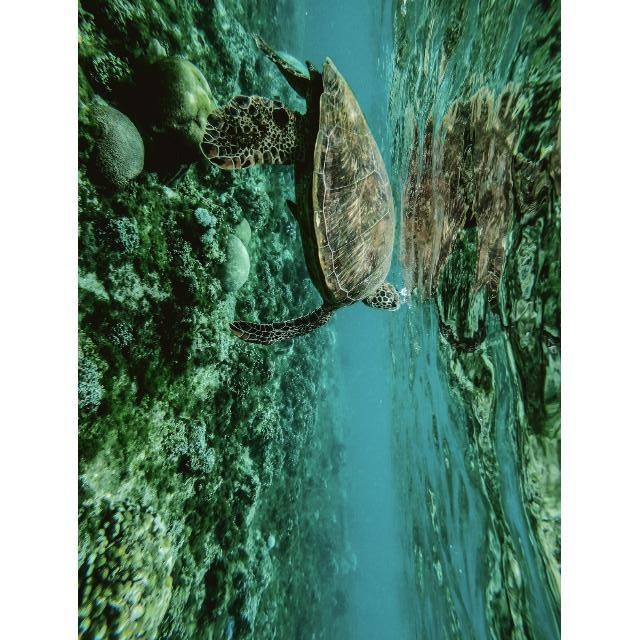turtle: (198, 32, 402, 348)
